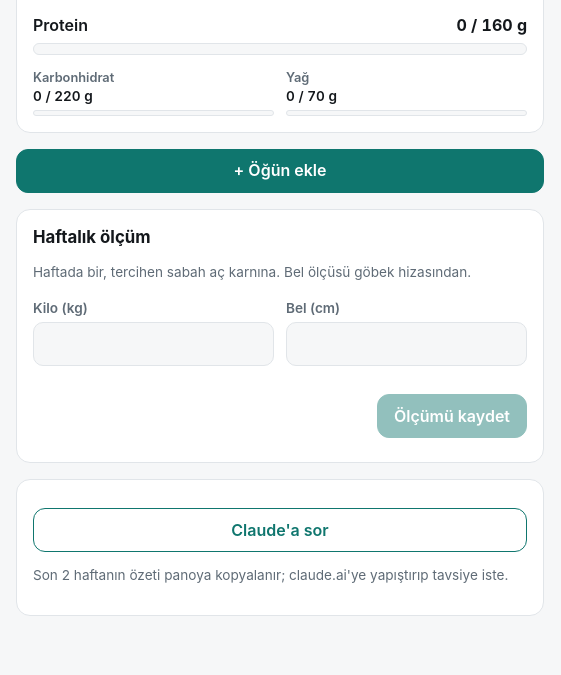
Test: Claude'a sor › özeti panoya kopyalar ve claude.ai bağlantısını gösterir
(page scrolled)
Click the button "Claude'a sor": (280, 530) [33,508,527,552]
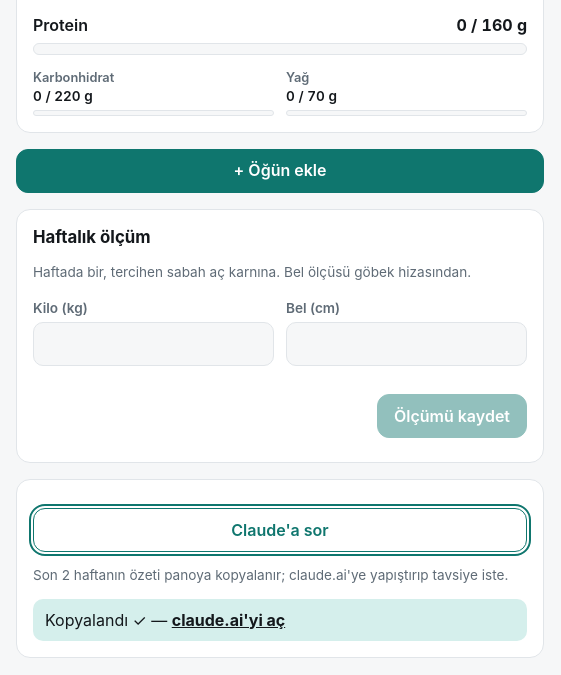
expect the text "Kopyalandı ✓ — claude.ai'yi aç" is shown: met, box [33,599,527,641]
